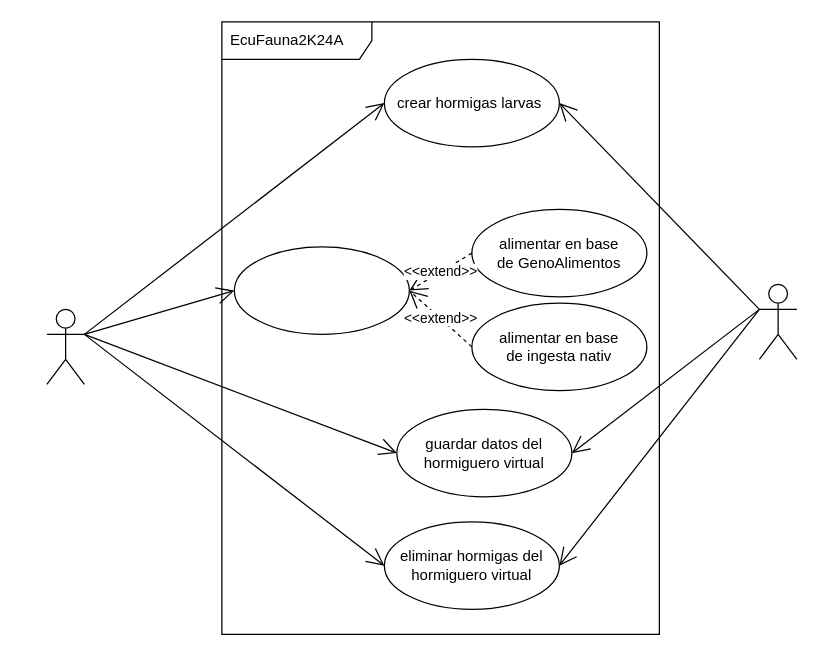
The diagram is 819 pixels wide and 656 high, and some of its shapes have lost their labels. Here are the shapes that lost their labels. From the top down, the centre of each, then its label:
At (321,290): "alimentar hormigas con diferentes alimentos".
At (777,321): "App".
At (65,346): "Entomólogos".
